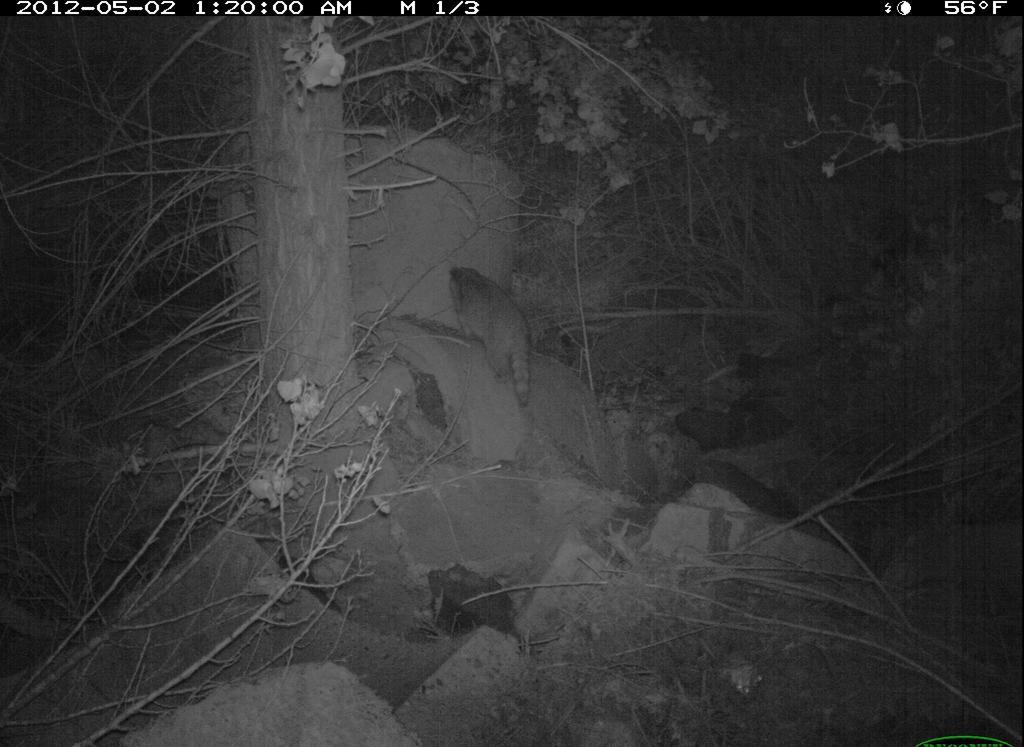raccoon: (433, 253, 552, 411)
